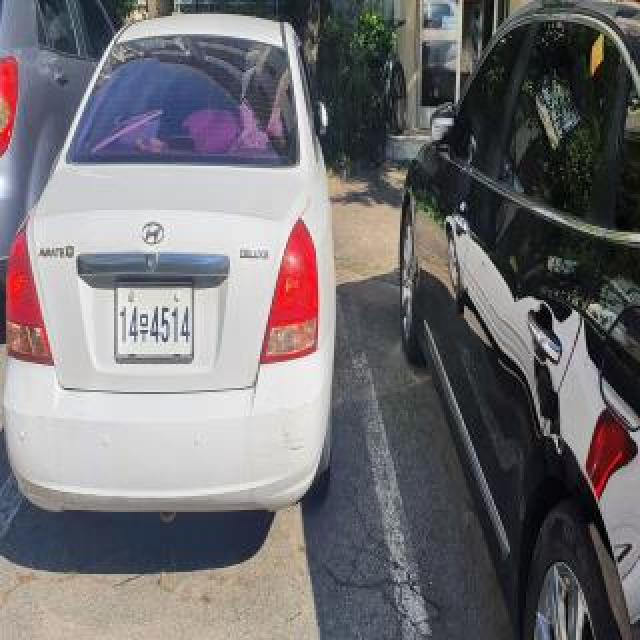car: (2, 6, 342, 556)
illegal_plate: (117, 280, 196, 367)
